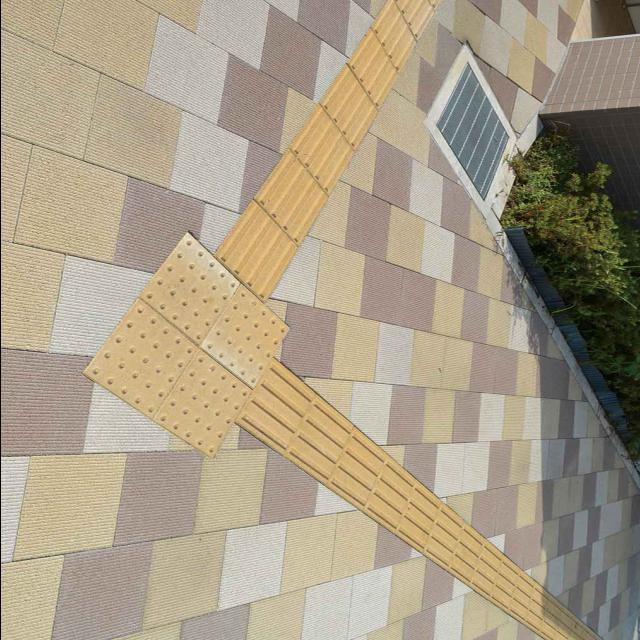tactile-guide-path: (230, 355, 602, 639), (212, 1, 438, 300), (80, 235, 290, 456)
